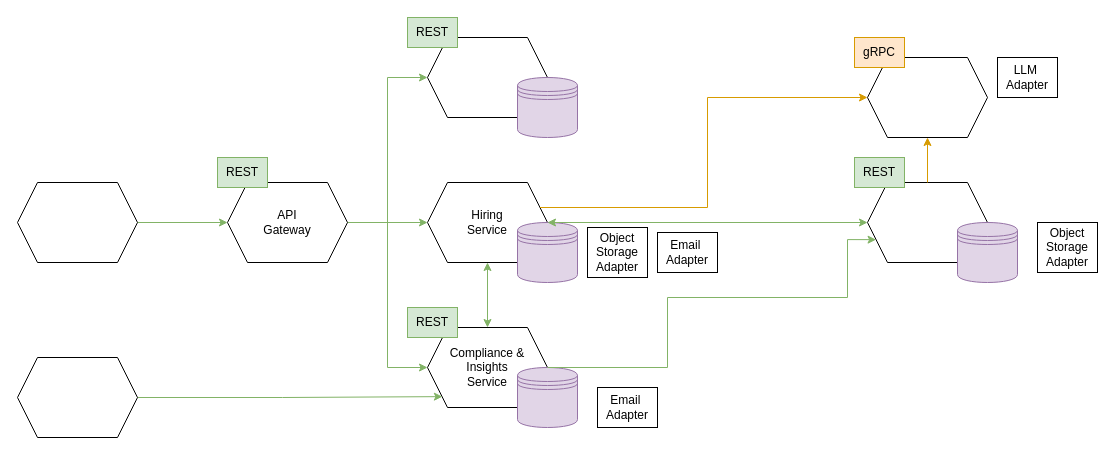
Some shapes in this 1115 by 455 pixel diagram are drawn without their labels. The shapes that lost their labels are listed below. From the top down, each one's box as (x1, y1, x2, y2) in pixels, then its label:
(426, 36, 548, 118): Identity Service
(866, 56, 988, 138): AI Service
(16, 182, 138, 262): HireAssist Web UI
(866, 182, 988, 262): Resume Processing Service
(16, 356, 138, 438): Scheduler
